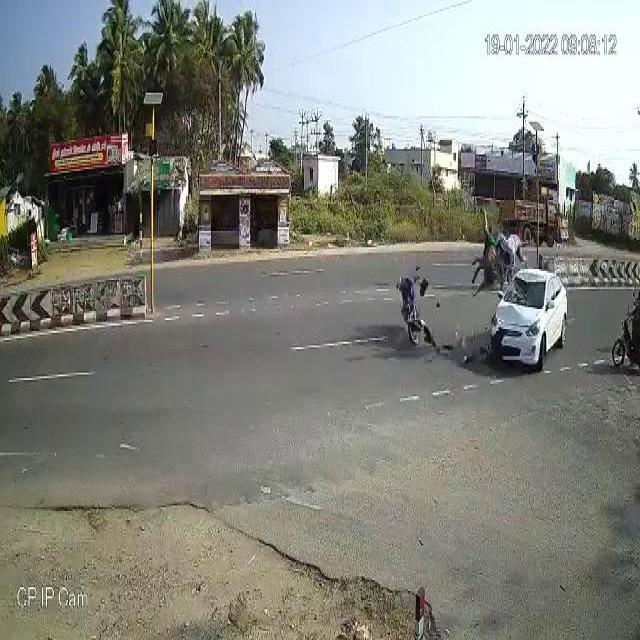accident: (393, 206, 574, 377)
